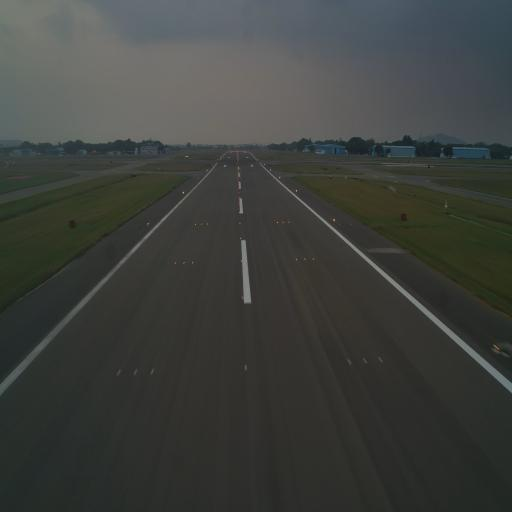on: (492, 340, 502, 356), (115, 364, 122, 379), (361, 354, 368, 368), (376, 355, 384, 366), (148, 365, 155, 377), (243, 361, 249, 375), (346, 355, 352, 368), (133, 365, 139, 377), (240, 258, 243, 265), (295, 256, 298, 263), (173, 261, 177, 266), (182, 260, 186, 265), (191, 260, 194, 266), (312, 255, 315, 261), (241, 295, 244, 300), (303, 257, 306, 262)
